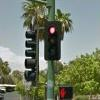traffic lights: (24, 25, 39, 86), (43, 20, 64, 62), (59, 85, 74, 100)
